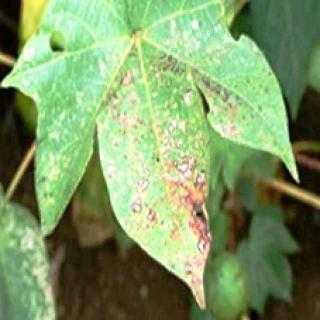grey mildew: (64, 38, 266, 313)
